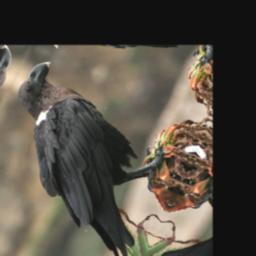Crow: (0, 57, 200, 256)
